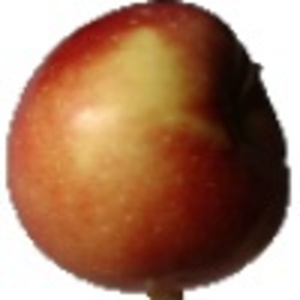maçã braeburn: (5, 1, 294, 295)
